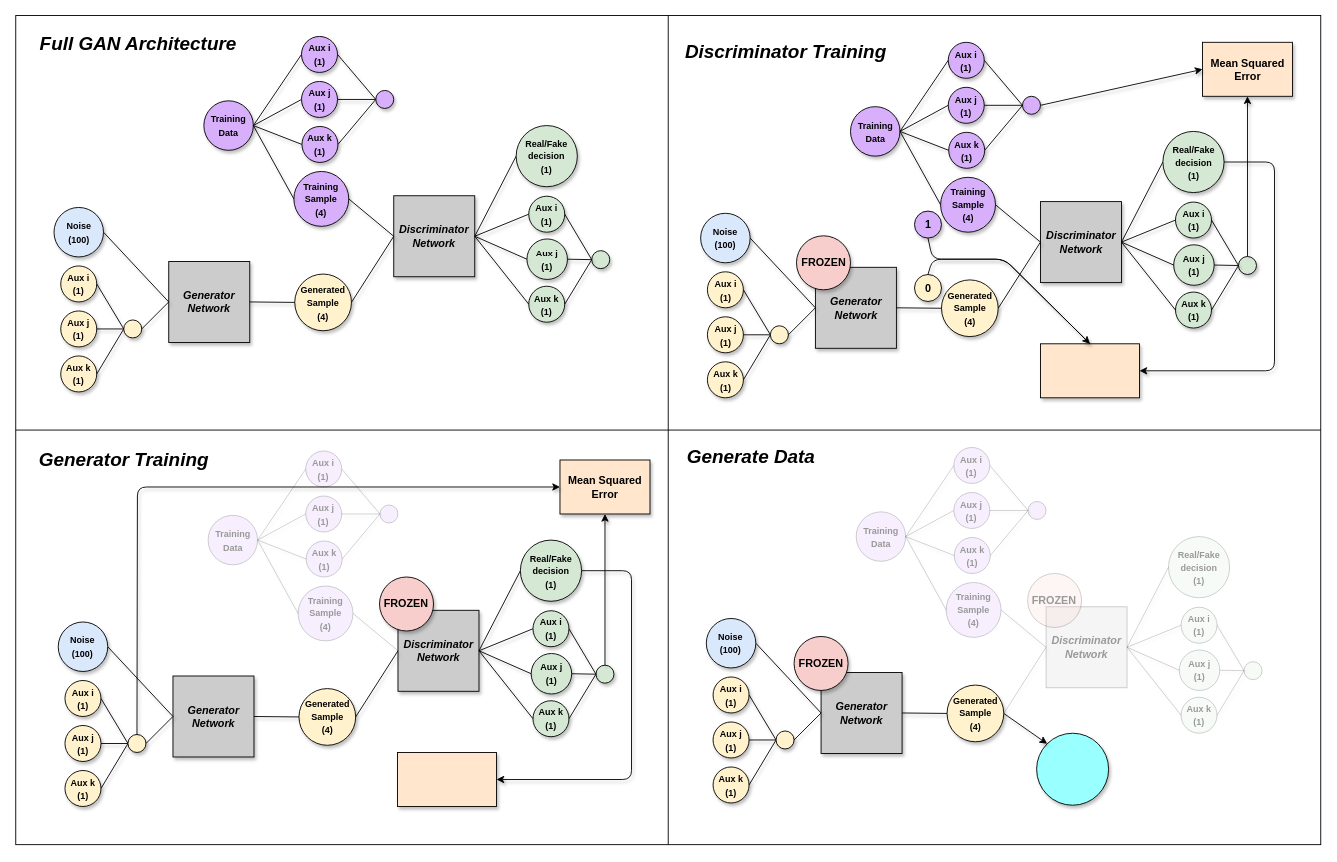
Some shapes in this 1337 by 862 pixel diagram are drawn without their labels. Here are the shapes that lost their labels. From the top down, the centre of each, then its label:
At point 1090,371: "Binary Cross-entropy".
At point 447,780: "GAN Loss Function".
At point 1073,770: "OUTPUT".
